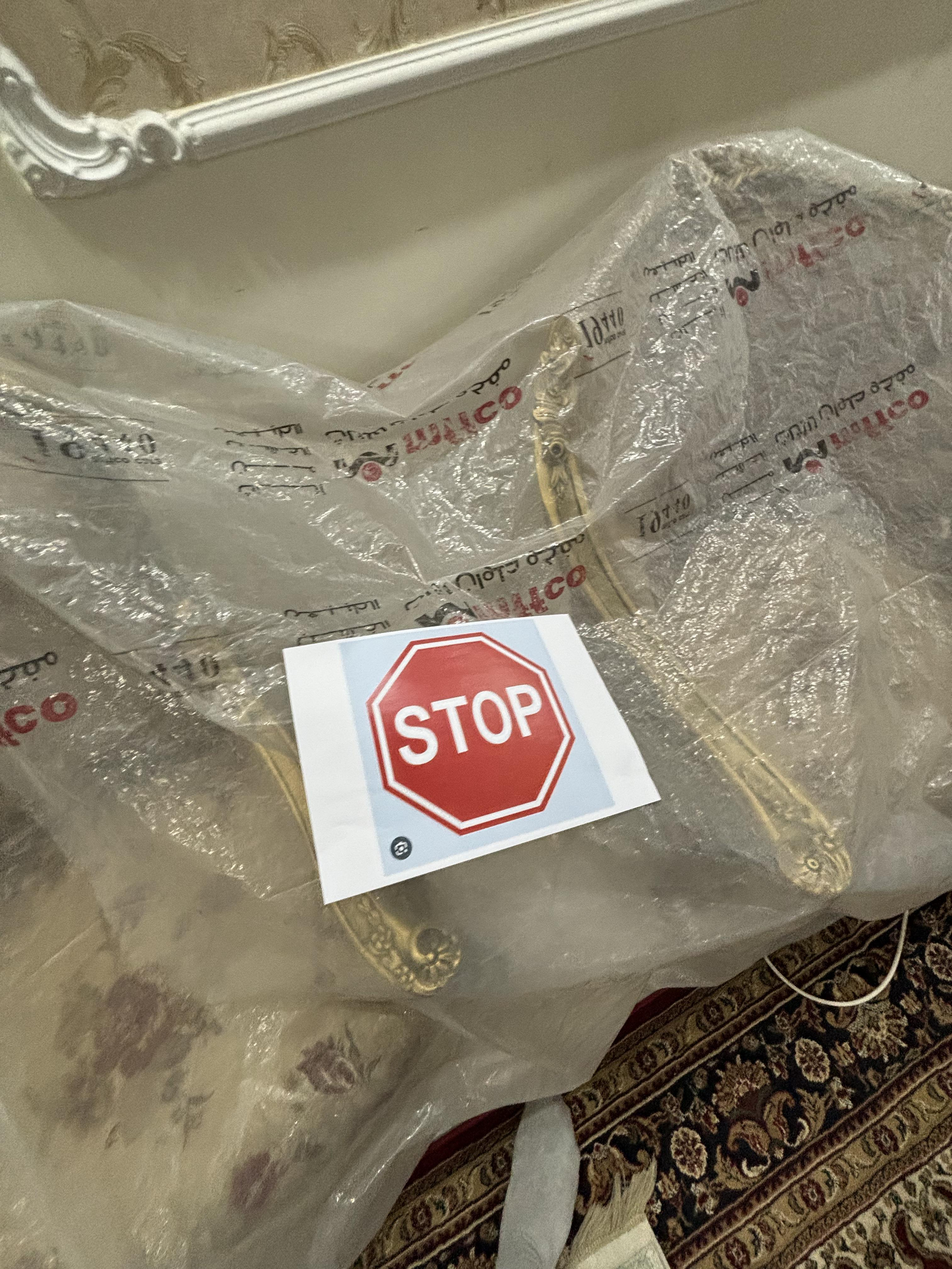Stop: (364, 633, 583, 838)
